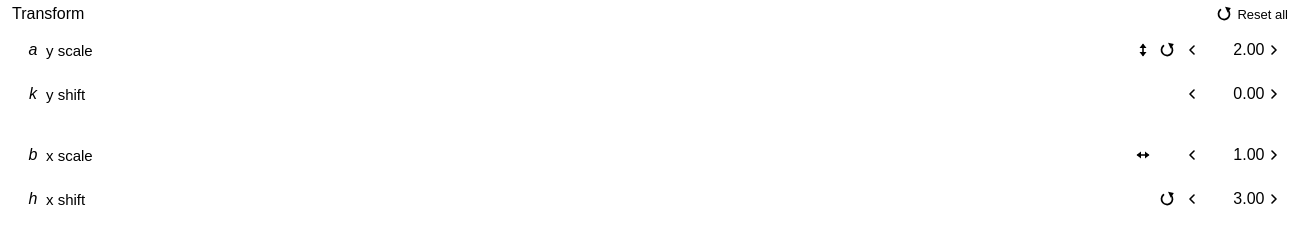
the Transform card's Reset all › shows while any value is off its default, and puts every default back
The width and height of the screenshot is (1304, 227).
Expected: the field labelled "y scale" holds "2.00", 1200,39 -> 1264,61
Expected: the field labelled "x shift" holds "3.00", 1200,188 -> 1264,210
Click the button "Reset all". click: (1252, 14)
box: 1212,4 -> 1292,24
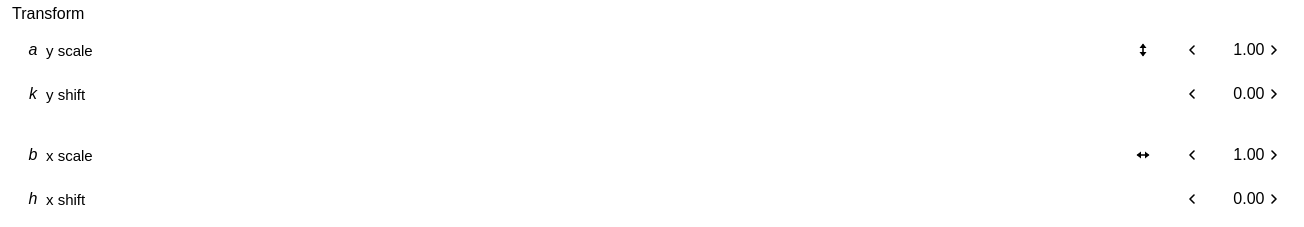
Result: the field labelled "y scale" holds "1.00" at 1200,39 -> 1264,61
Result: the field labelled "x shift" holds "0.00" at 1200,188 -> 1264,210
